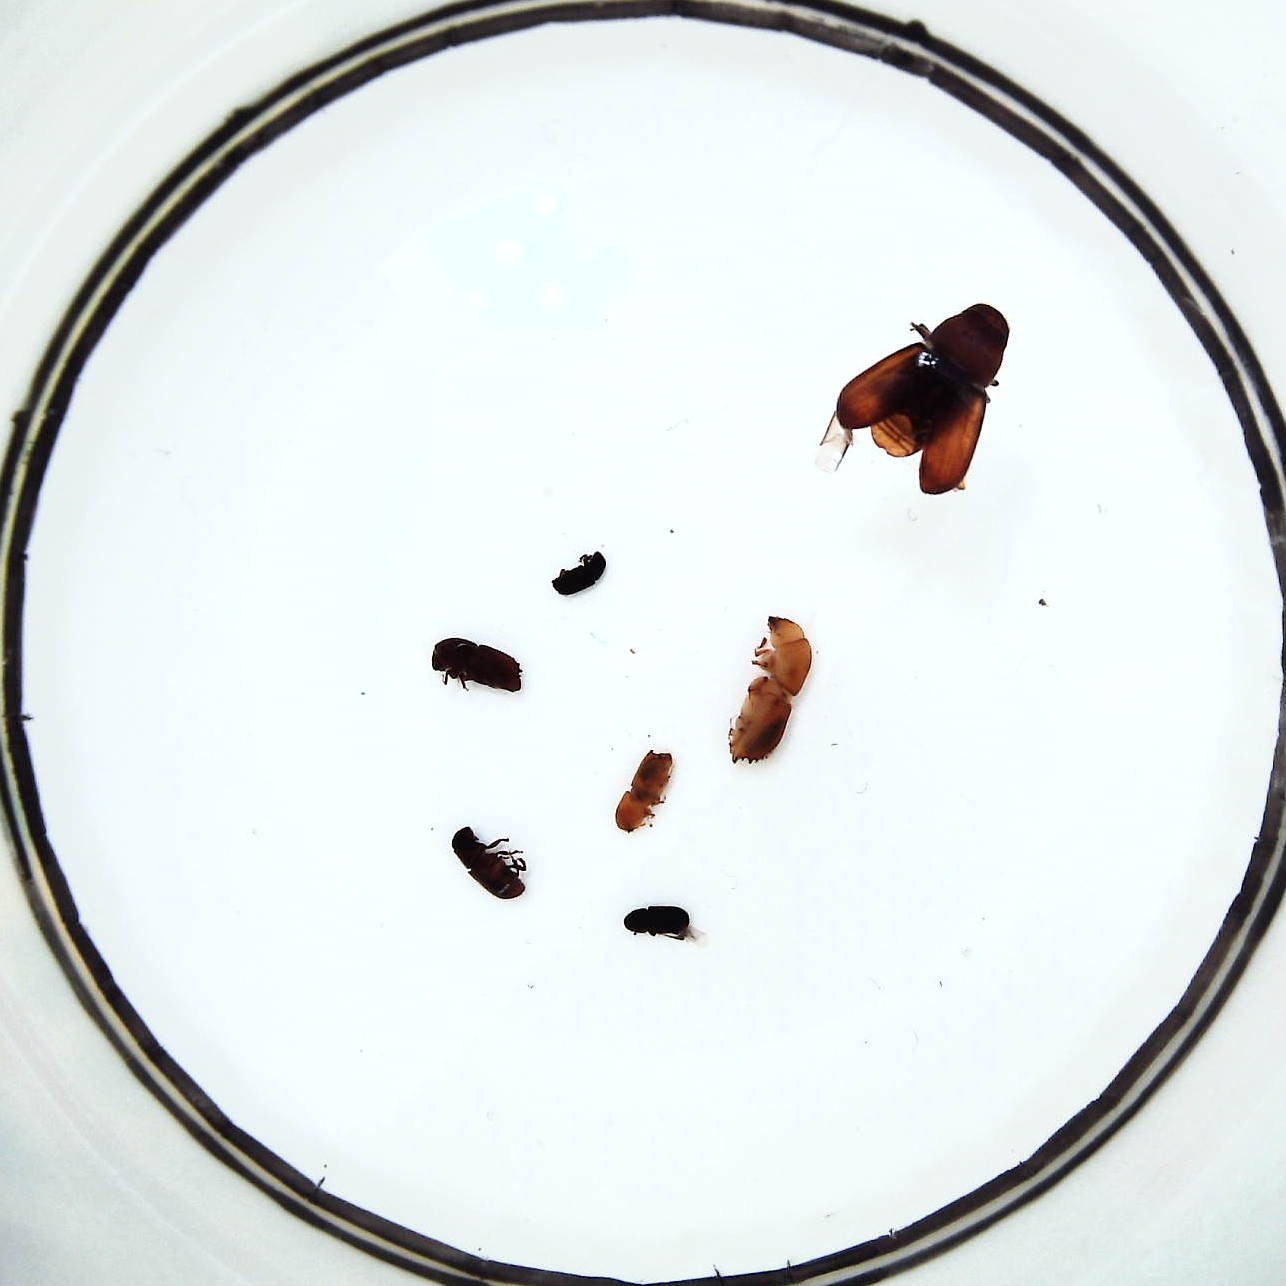Boerner: (729, 617, 811, 768)
Leconte: (831, 301, 1005, 498)
Linnaeus: (430, 635, 523, 692)
acuminatus: (609, 750, 676, 830)
armandi: (453, 826, 526, 899)
coleoptera: (627, 904, 690, 944), (551, 551, 608, 595)
